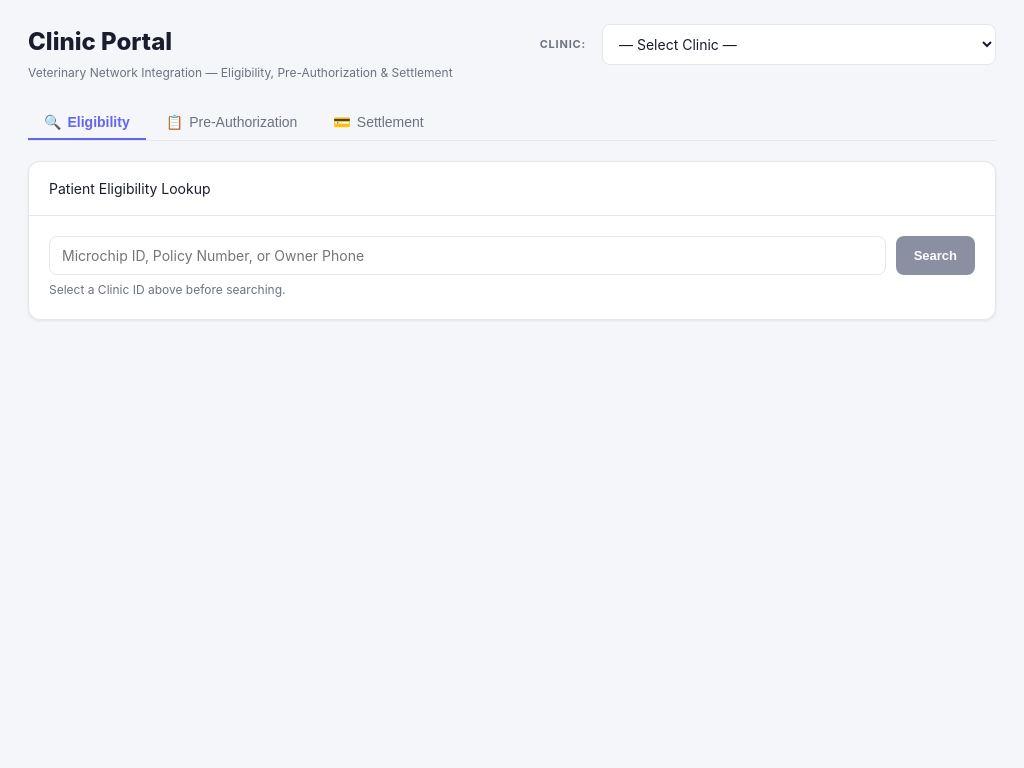
it: ClinicPortal — Pre-Auth submit guard › Submit button is disabled before any fields are filled
This screenshot has width=1024, height=768.
Click the button "📋 Pre-Authorization" at (232, 123), box [150, 106, 313, 140]
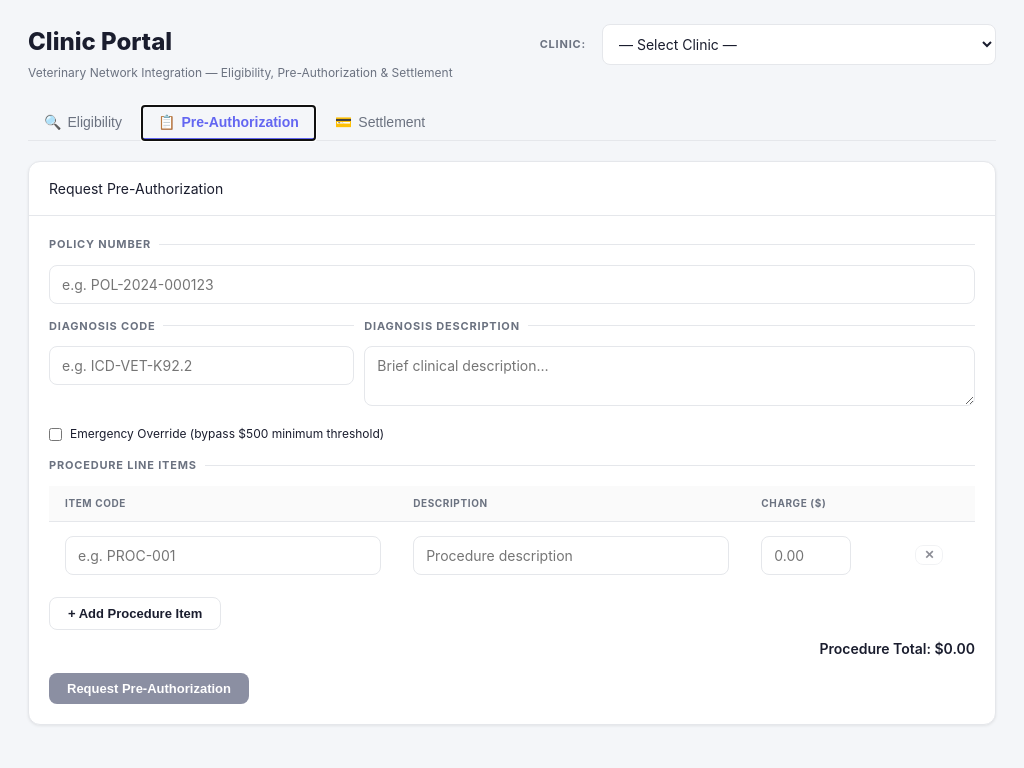
Now the button "Request Pre-Authorization" is disabled, box [49, 672, 249, 704]
